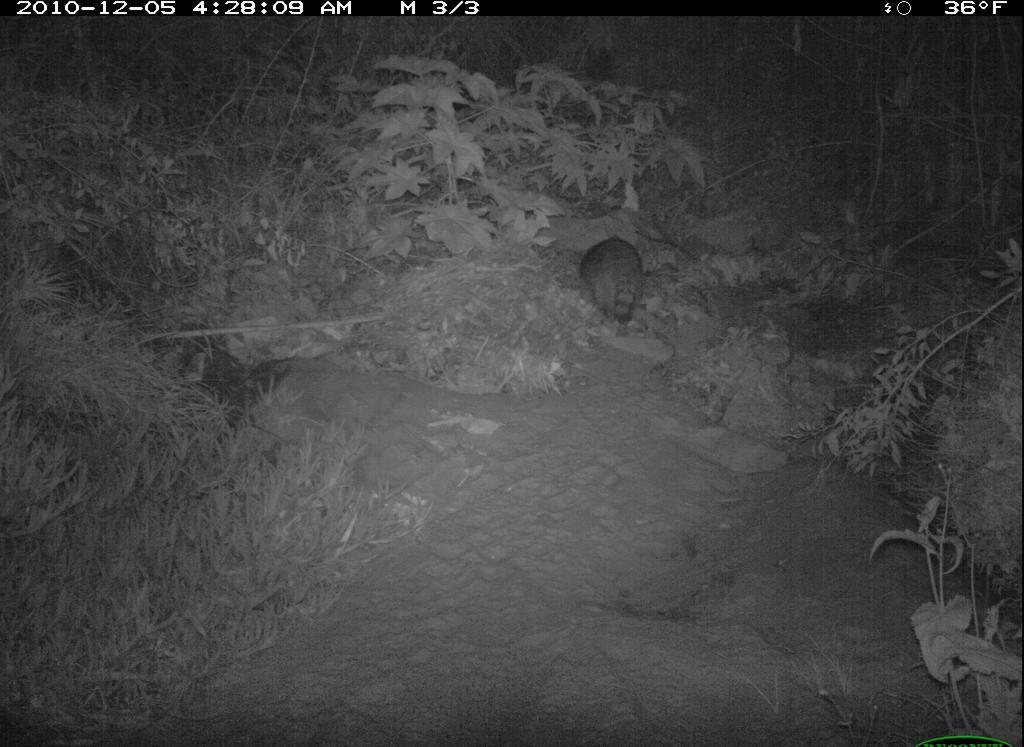raccoon: (574, 227, 661, 338)
